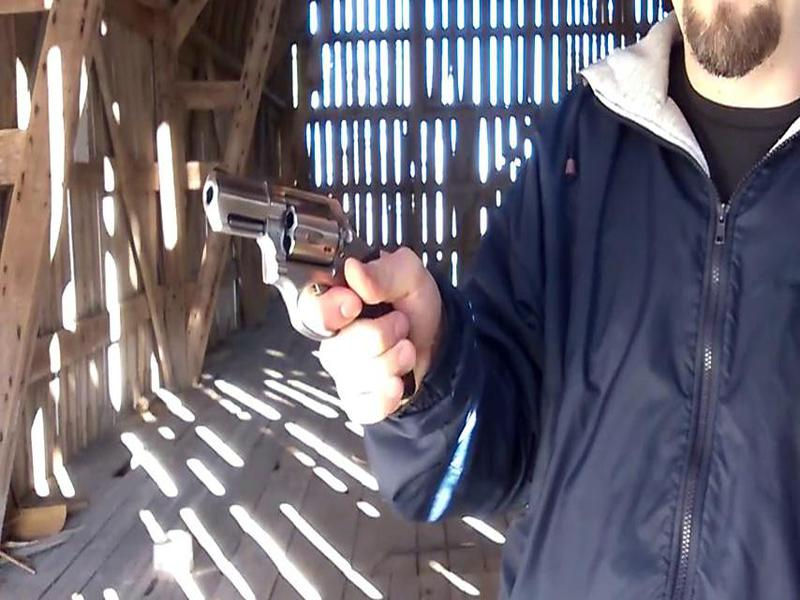Revolver: (187, 154, 429, 404)
